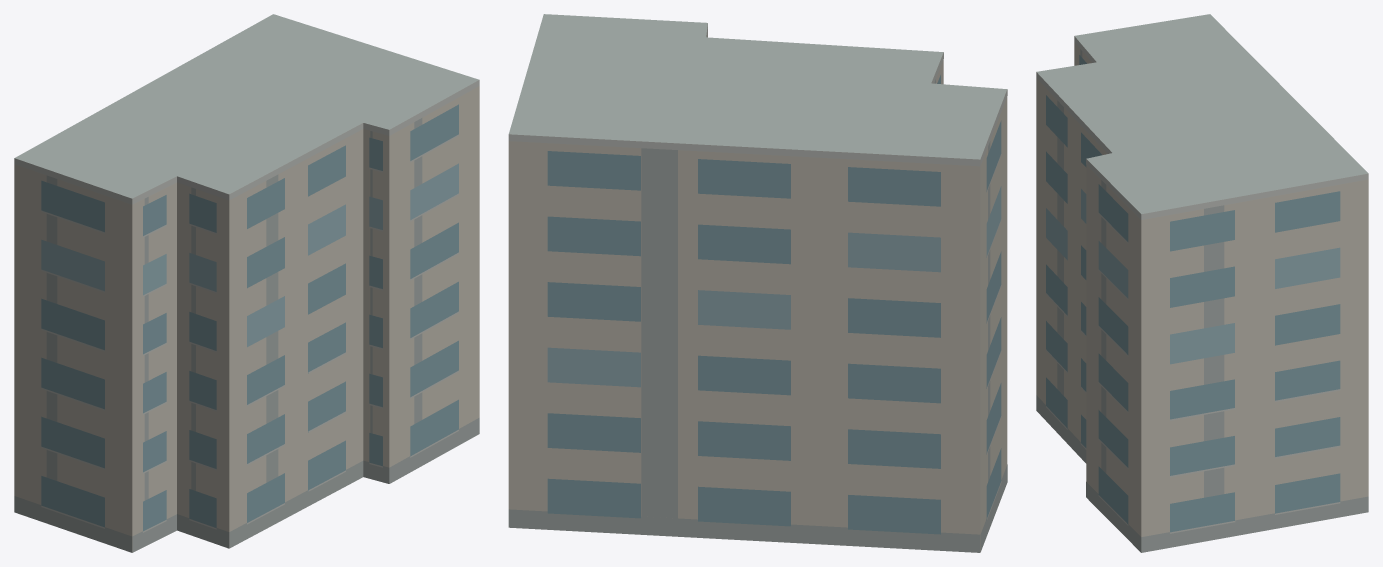
Rendered from survey-upis-32854888.glb.
3 views of the same model, side by side, from view 1: azimuth 30°, elevation 25°; view 2: azimuth 150°, elevation 25°; view 3: azimuth 270°, elevation 25° (orthographic). The views are drawn at different scales.
Visible parts, largest first — view 1: survey-upis-32854888.tmp; view 2: survey-upis-32854888.tmp; view 3: survey-upis-32854888.tmp.
Boxes of the visible parts, bbox=[...] form: survey-upis-32854888.tmp: bbox=[14, 14, 479, 552]; survey-upis-32854888.tmp: bbox=[508, 14, 1007, 552]; survey-upis-32854888.tmp: bbox=[1036, 14, 1368, 552].
Size of the model in its own units: 17.95 by 14.15 by 12.6.
